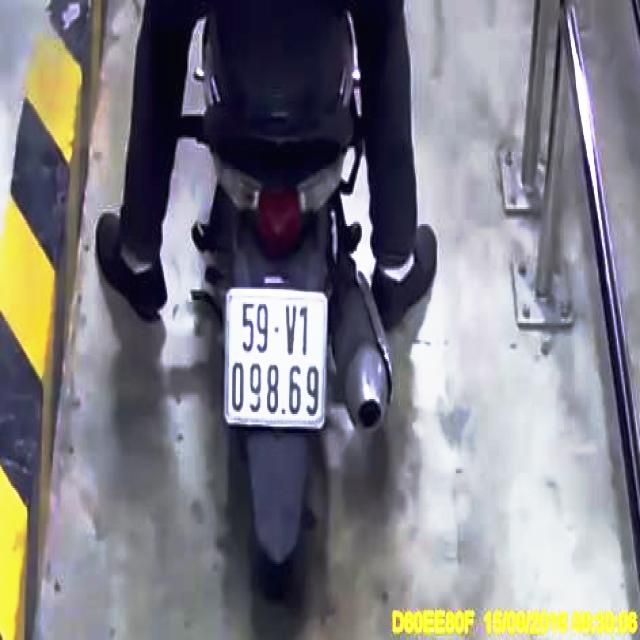license_plate: (226, 293, 327, 425)
